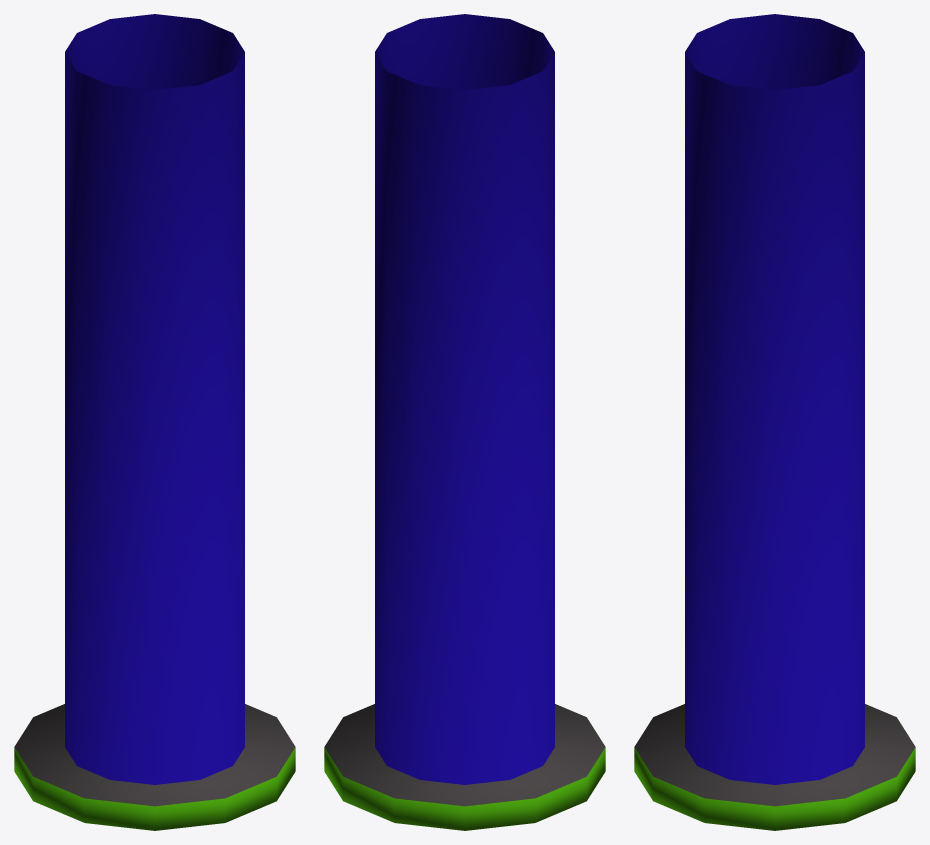
File: Bumpers_low.fbx
3 renders of one model, left to right at view 1: azimuth 30°, elevation 25°; view 2: azimuth 150°, elevation 25°; view 3: azimuth 270°, elevation 25°, orthographic.
Visible parts, largest first — view 1: Bumper; view 2: Bumper; view 3: Bumper.
Part boxes in pixels (box(x1,y1,x2,y2)): Bumper: box(14, 14, 295, 830); Bumper: box(324, 14, 605, 830); Bumper: box(634, 14, 915, 830).
Bounding box in the file's own units: 0.5179 × 1.48 × 0.5179.
